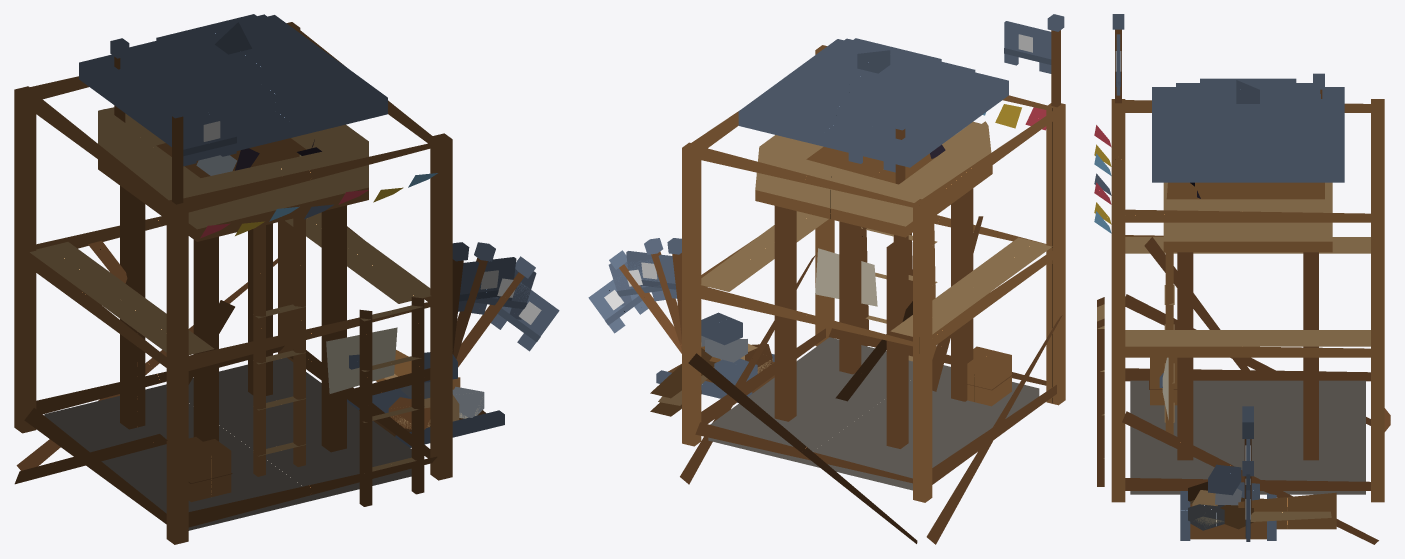
The model's file is raccoon-research_lod1.glb.
The picture shows the model from 3 angles, left to right: view 1: azimuth 30°, elevation 25°; view 2: azimuth 150°, elevation 25°; view 3: azimuth 270°, elevation 25°; orthographic projection. The views are drawn at different scales.
Visible parts, largest first — view 1: built-mesh, scaffold-mesh, dismantle-75-mesh, dismantle-50-mesh, scaffold-banner, dismantle-25-banner, dismantle-25-mesh, dismantle-75-banner, scaffold-flag-pole, dismantle-25-flag-pole, dismantle-50-flag-pole, dismantle-50-banner (+1 smaller); view 2: built-mesh, scaffold-mesh, dismantle-75-mesh, dismantle-25-mesh, dismantle-50-mesh, scaffold-banner, dismantle-25-banner, dismantle-75-banner, dismantle-25-flag-pole, dismantle-50-banner, scaffold-flag-pole, dismantle-50-flag-pole (+1 smaller); view 3: built-mesh, scaffold-mesh, dismantle-75-mesh, dismantle-50-mesh, dismantle-25-mesh, scaffold-flag-pole.
Part boxes in pixels (x1,y1,x2,y2): built-mesh: [44, 14, 411, 511]; scaffold-mesh: [14, 22, 452, 544]; dismantle-75-mesh: [129, 135, 504, 530]; dismantle-50-mesh: [129, 270, 504, 530]; scaffold-banner: [183, 106, 236, 166]; dismantle-25-banner: [491, 282, 559, 351]; dismantle-25-mesh: [189, 352, 496, 530]; dismantle-75-banner: [458, 257, 516, 311]; scaffold-flag-pole: [168, 98, 186, 204]; dismantle-25-flag-pole: [456, 256, 535, 367]; dismantle-50-flag-pole: [452, 242, 495, 358]; dismantle-50-banner: [471, 269, 536, 319]; built-mesh: [710, 38, 1038, 475]; scaffold-mesh: [650, 45, 1065, 544]; dismantle-75-mesh: [656, 200, 991, 406]; dismantle-25-mesh: [656, 312, 968, 398]; dismantle-50-mesh: [656, 294, 1012, 405]; scaffold-banner: [1004, 21, 1051, 73]; dismantle-25-banner: [588, 275, 648, 333]; dismantle-75-banner: [626, 251, 677, 298]; dismantle-25-flag-pole: [609, 250, 681, 353]; dismantle-50-banner: [608, 259, 665, 305]; scaffold-flag-pole: [1047, 14, 1064, 107]; dismantle-50-flag-pole: [644, 238, 681, 349]; built-mesh: [1130, 78, 1365, 480]; scaffold-mesh: [1094, 99, 1390, 544]; dismantle-75-mesh: [1134, 182, 1365, 539]; dismantle-50-mesh: [1130, 298, 1365, 540]; dismantle-25-mesh: [1190, 464, 1259, 528]; scaffold-flag-pole: [1112, 14, 1124, 103].
Bounding box in the file's own units: 2.35 × 2.34 × 1.51.
